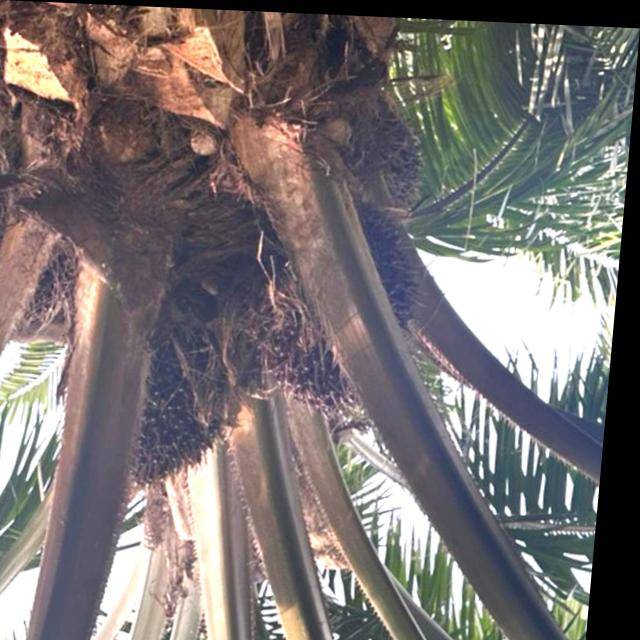ripe: (119, 273, 270, 502), (262, 215, 422, 422)
